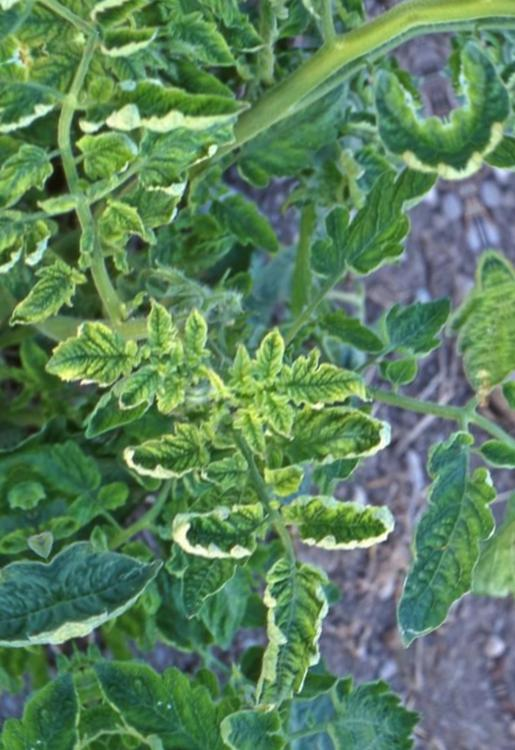Tomato leaf yellow virus: (205, 549, 374, 750), (279, 463, 407, 573), (34, 308, 155, 410), (272, 341, 379, 431), (167, 496, 276, 581), (0, 254, 94, 336), (120, 418, 217, 494), (69, 119, 150, 193), (257, 385, 311, 449)
